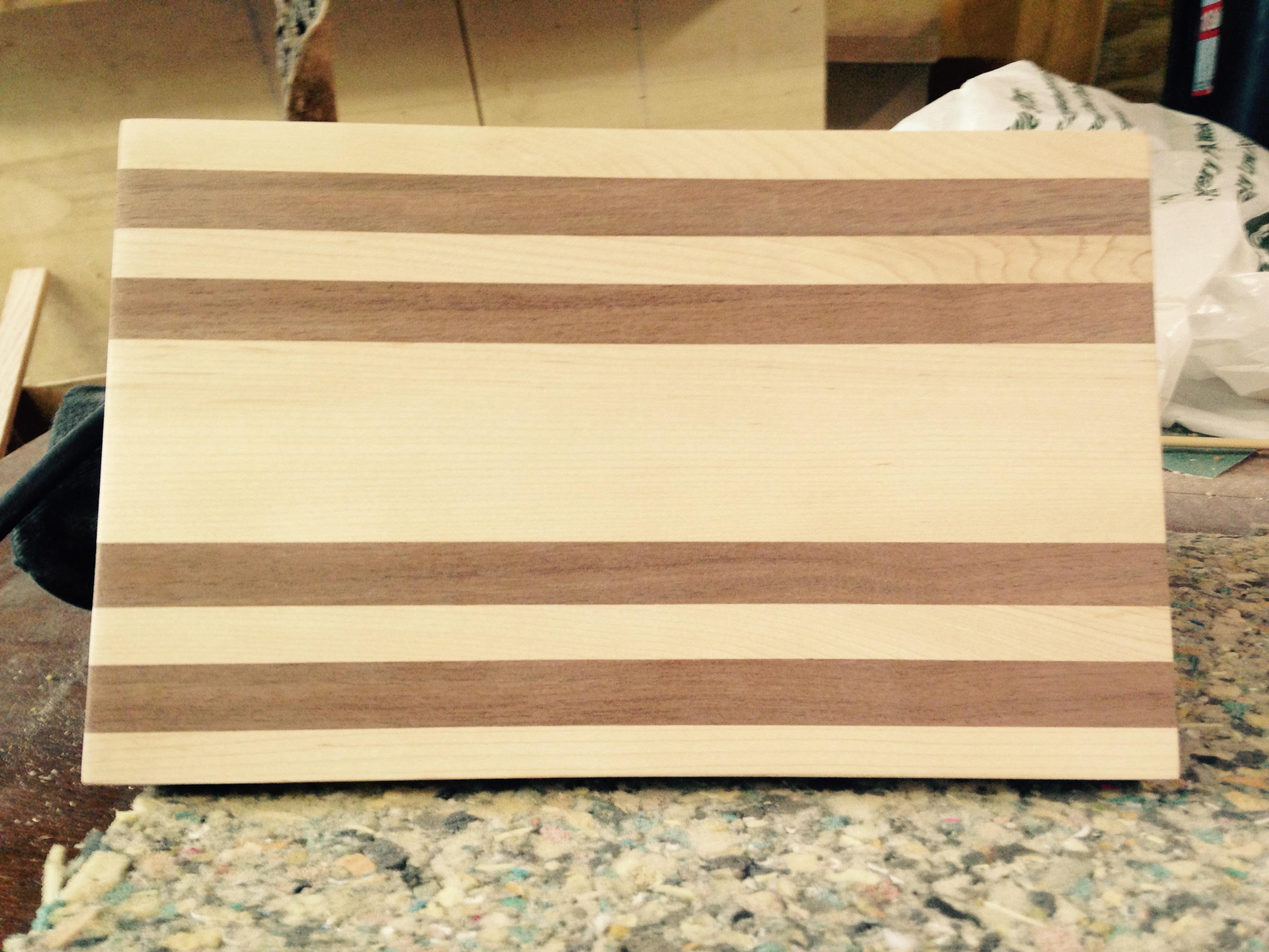gloved_hand: (68, 100, 1196, 798)
